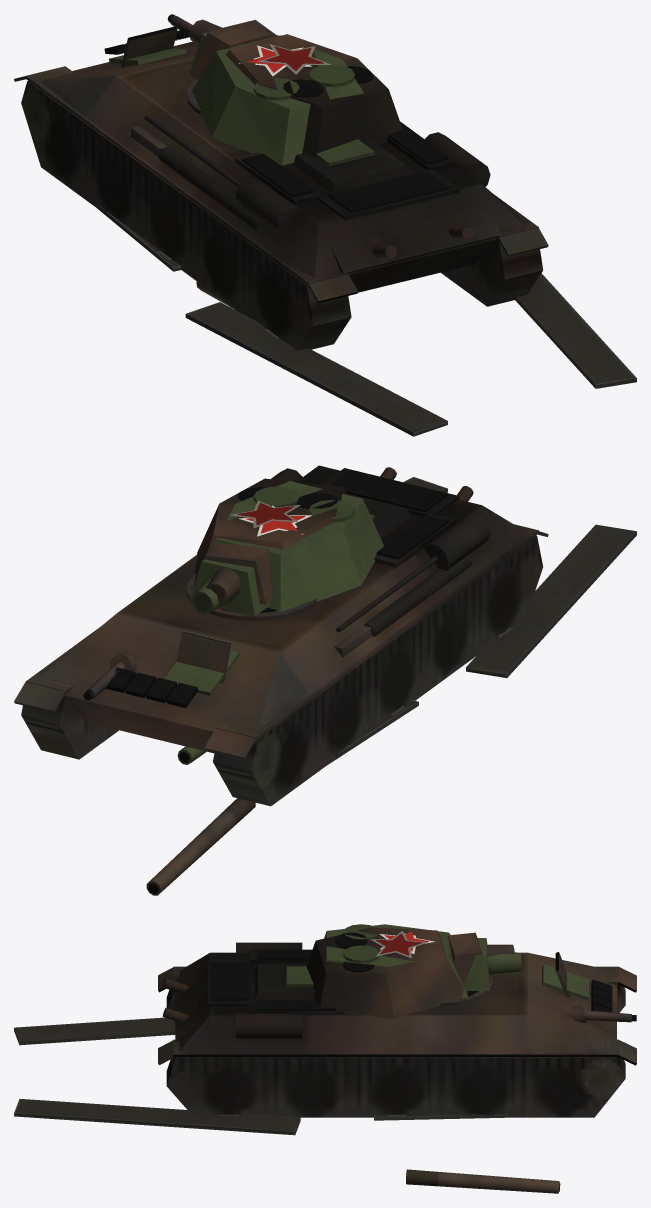
3 views of the same model, one above another, from view 1: azimuth 30°, elevation 25°; view 2: azimuth 150°, elevation 25°; view 3: azimuth 270°, elevation 25° (orthographic). The views are drawn at different scales.
Parts seen in each view (by area): view 1: hull_blown, turret_ko, turret_ok, hull_trackL, hull_trackR, hull_ok; view 2: hull_blown, turret_ok, hull_trackL, turret_ko, gun_blown, hull_ok; view 3: hull_blown, turret_ko, hull_trackR, turret_ok, hull_trackL, gun_blown, hull_ok.
Part boxes in pixels (x1=…): hull_blown: x1=14, y1=14, x2=548, y2=350; turret_ko: x1=189, y1=19, x2=402, y2=157; turret_ok: x1=190, y1=21, x2=363, y2=165; hull_trackL: x1=95, y1=203, x2=447, y2=436; hull_trackR: x1=515, y1=273, x2=636, y2=388; hull_ok: x1=109, y1=48, x2=374, y2=165; hull_blown: x1=14, y1=465, x2=548, y2=806; turret_ok: x1=190, y1=481, x2=383, y2=616; hull_trackL: x1=325, y1=524, x2=636, y2=766; turret_ko: x1=194, y1=478, x2=347, y2=606; gun_blown: x1=146, y1=798, x2=255, y2=895; hull_ok: x1=164, y1=514, x2=374, y2=695; hull_blown: x1=158, y1=942, x2=636, y2=1117; turret_ko: x1=306, y1=927, x2=514, y2=1018; hull_trackR: x1=14, y1=1098, x2=508, y2=1135; turret_ok: x1=324, y1=924, x2=521, y2=998; hull_trackL: x1=14, y1=1017, x2=175, y2=1045; gun_blown: x1=406, y1=1169, x2=560, y2=1193; hull_ok: x1=286, y1=964, x2=588, y2=1000.
Size of the model in its own units: 4.19 by 3.89 by 8.95.
Materials: 21 (21 with a texture image).
